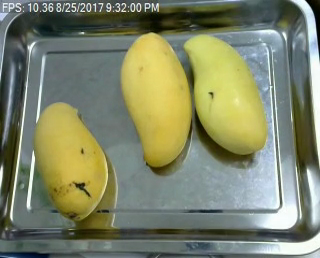Mango: (184, 34, 268, 155), (119, 32, 192, 168), (31, 103, 108, 221)
